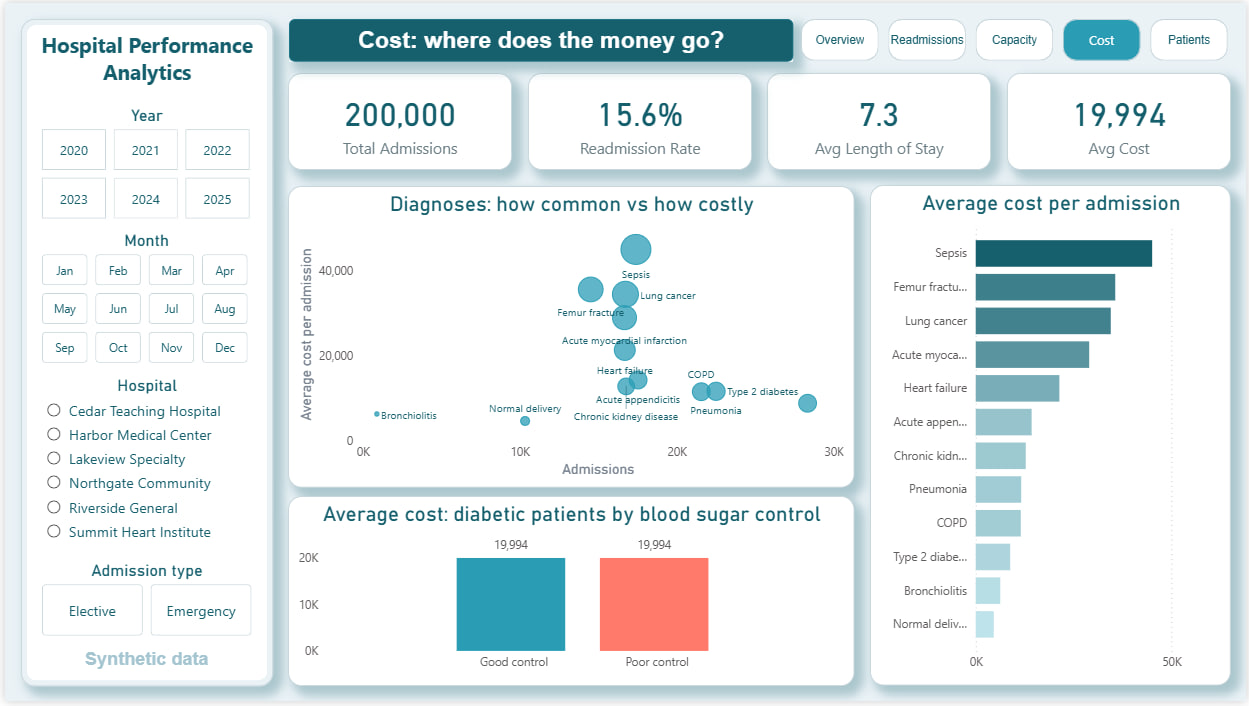

Layout of this report page (visuals, bound fields, positions):
{"tool":"powerbi","page":{"name":"Cost","canvas":[1280,720],"ordinal":3},"visuals":[{"type":"shape","box":[16,16,260,688],"z":0},{"type":"textbox","box":[16,24,260,80],"z":1000},{"type":"listSlicer","title":"Hospital","fields":{"Values":["dim_hospital.hospital_name"]},"box":[35.9,383.3,220.8,231.6],"z":2000},{"type":"advancedSlicerVisual","fields":{"Values":["Date Table.Year"]},"box":[35.9,104.1,220,120.3],"z":3000},{"type":"advancedSlicerVisual","fields":{"Values":["Date Table.Month"]},"box":[35.9,232.5,220,140],"z":4000},{"type":"advancedSlicerVisual","title":"Admission type","fields":{"Values":["fact_admissions.admission_type"]},"box":[35.9,573.7,220.8,81.7],"z":5000},{"type":"card","fields":{"Values":["fact_admissions.Avg Length of Stay"]},"box":[786,72,231,100],"z":6000},{"type":"card","fields":{"Values":["fact_admissions.Total Admissions"]},"box":[292,72,231,100],"z":7000},{"type":"card","fields":{"Values":["fact_admissions.Avg Cost"]},"box":[1033,72,231,100],"z":8000},{"type":"card","fields":{"Values":["fact_admissions.Readmission Rate"]},"box":[539,72,231,100],"z":9000},{"type":"shape","box":[292.7,16.2,520,44],"z":10000},{"type":"scatterChart","title":"Diagnoses: how common vs how costly","fields":{"Category":["dim_diagnosis.diagnosis"],"X":["fact_admissions.Total Admissions"],"Y":["fact_admissions.Avg Cost"],"Size":["fact_admissions.Total Cost"]},"box":[291.8,188.8,583.6,311.4],"z":11000},{"type":"clusteredColumnChart","title":"Average cost: diabetic patients by blood sugar control","fields":{"Category":["fact_lab_results.Control Group"],"Y":["fact_admissions.Avg Cost"]},"box":[291.8,508.1,583.5,195.7],"z":12000},{"type":"clusteredBarChart","title":"Average cost per admission","fields":{"Category":["dim_diagnosis.diagnosis"],"Y":["fact_admissions.Avg Cost"]},"box":[892,188,372,516],"z":13000},{"type":"shape","box":[36.8,661.6,218.2,30.5],"z":14000},{"type":"pageNavigator","box":[820.5,16.2,443.5,44],"z":15000}]}

Visuals, with their boxes in screenshot pixels (x1, y1, x2, y2), scaled from the page's 1280x720 canvas onto the 1249x706 screenshot:
shape: bbox=(16, 16, 269, 690)
textbox: bbox=(16, 24, 269, 102)
"Hospital" listSlicer: bbox=(35, 376, 250, 603)
advancedSlicerVisual - Date Table.Year: bbox=(35, 102, 250, 220)
advancedSlicerVisual - Date Table.Month: bbox=(35, 228, 250, 365)
"Admission type" advancedSlicerVisual: bbox=(35, 563, 250, 643)
card - fact_admissions.Avg Length of Stay: bbox=(767, 71, 992, 169)
card - fact_admissions.Total Admissions: bbox=(285, 71, 510, 169)
card - fact_admissions.Avg Cost: bbox=(1008, 71, 1233, 169)
card - fact_admissions.Readmission Rate: bbox=(526, 71, 751, 169)
shape: bbox=(286, 16, 793, 59)
"Diagnoses: how common vs how costly" scatterChart: bbox=(285, 185, 854, 490)
"Average cost: diabetic patients by blood sugar control" clusteredColumnChart: bbox=(285, 498, 854, 690)
"Average cost per admission" clusteredBarChart: bbox=(870, 184, 1233, 690)
shape: bbox=(36, 649, 249, 679)
pageNavigator: bbox=(801, 16, 1233, 59)
